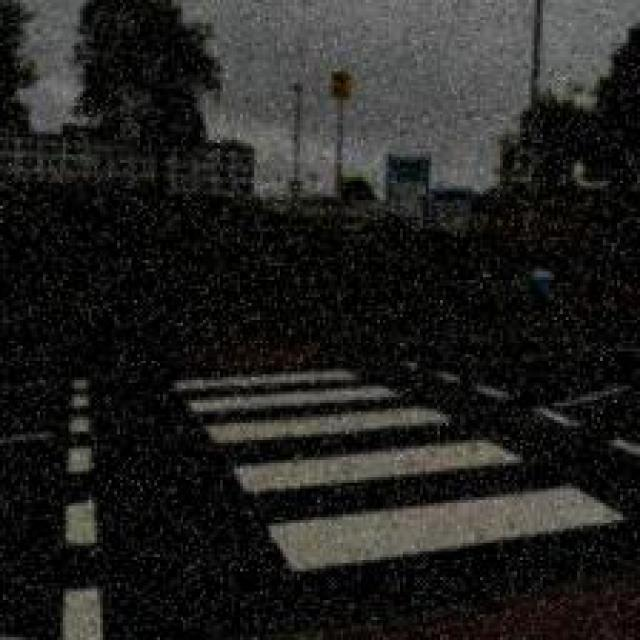crosswalk: (169, 363, 627, 576)
